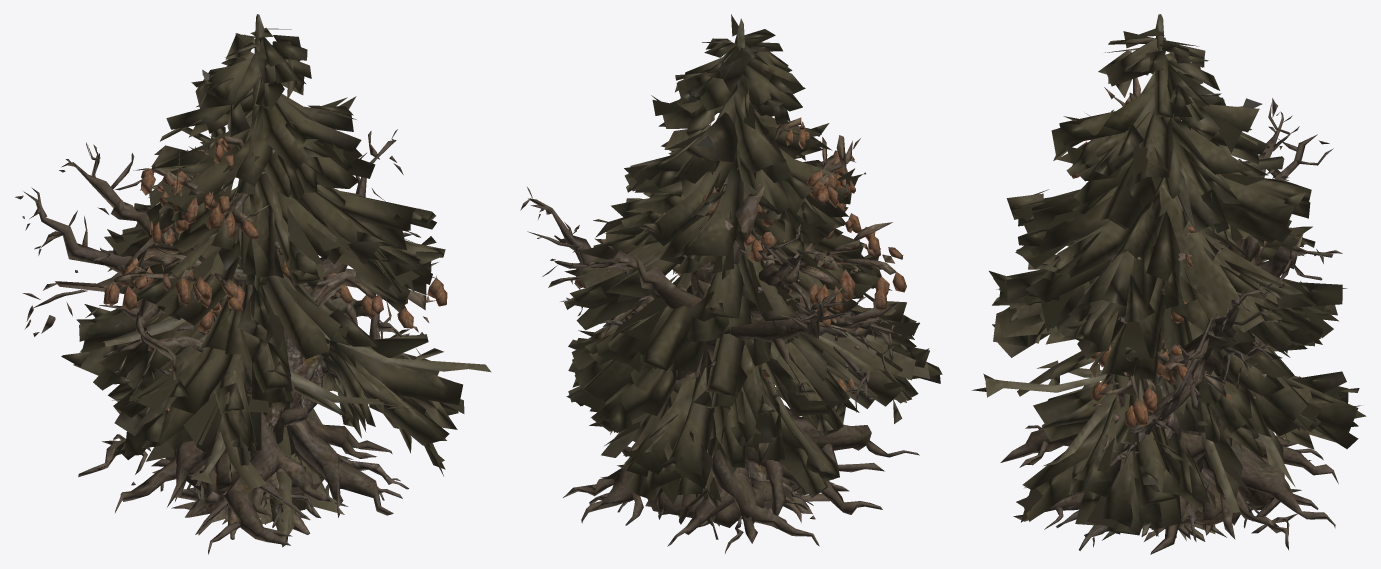
The model's file is nature.glb.
3 renders of one model, left to right at view 1: azimuth 30°, elevation 25°; view 2: azimuth 150°, elevation 25°; view 3: azimuth 270°, elevation 25°, orthographic. The views are drawn at different scales.
Parts seen in each view (by area): view 1: h_tree_pine_yellow_large, h_tree_dead_large, h_tree_pine_orange_medium, h_tree_dead_medium; view 2: h_tree_pine_yellow_large, h_tree_dead_large, h_tree_pine_orange_medium; view 3: h_tree_pine_yellow_large, h_tree_dead_large, h_tree_pine_orange_medium, h_tree_dead_medium.
Part boxes in pixels (x1,y1,x2,y2): h_tree_pine_yellow_large: (61, 14, 491, 547); h_tree_dead_large: (15, 129, 423, 554); h_tree_pine_orange_medium: (103, 135, 447, 539); h_tree_dead_medium: (177, 190, 413, 521); h_tree_pine_yellow_large: (564, 14, 942, 526); h_tree_dead_large: (520, 185, 919, 553); h_tree_pine_orange_medium: (575, 117, 906, 528); h_tree_pine_yellow_large: (971, 14, 1366, 541); h_tree_dead_large: (1000, 98, 1342, 554); h_tree_pine_orange_medium: (1062, 77, 1230, 530); h_tree_dead_medium: (1056, 226, 1276, 550).
Bounding box in the file's own units: 5.83 × 7.46 × 5.36.
12 materials, 12 textured.
